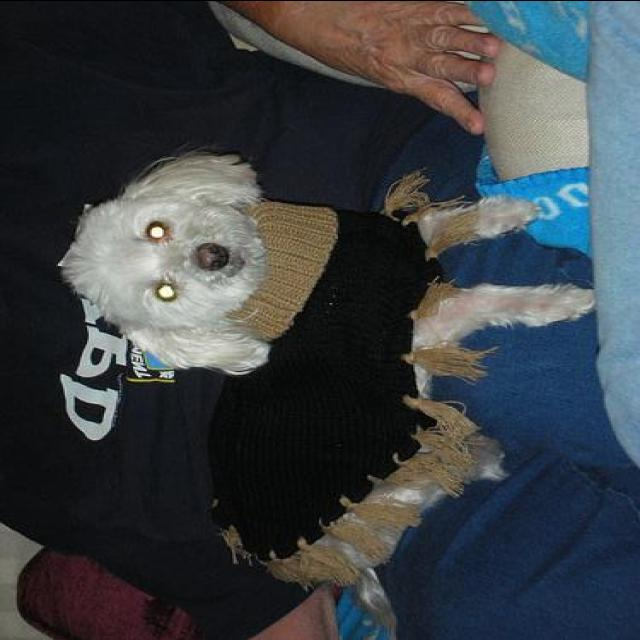maltese_dog: (56, 145, 598, 638)
